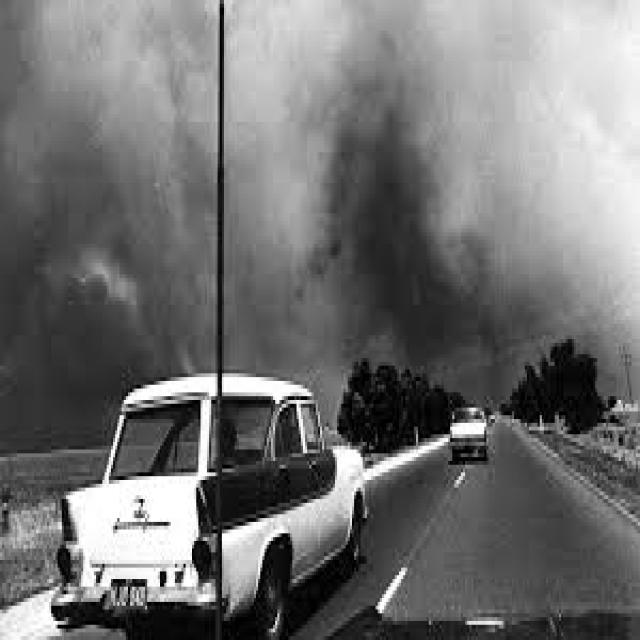Smoke: (323, 28, 545, 375)
